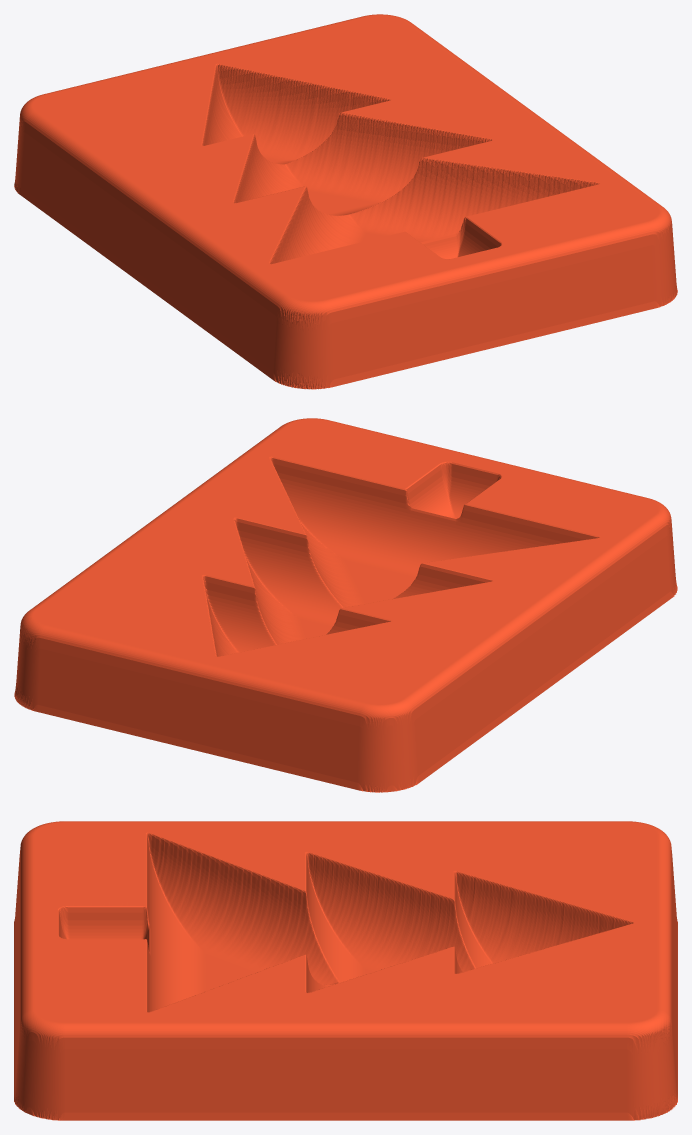
The model's file is mold.glb.
3 views of the same model, one above another, from view 1: azimuth 30°, elevation 25°; view 2: azimuth 150°, elevation 25°; view 3: azimuth 270°, elevation 25° (orthographic). The views are drawn at different scales.
Visible parts, largest first — view 1: geometry_0; view 2: geometry_0; view 3: geometry_0.
Boxes of the visible parts, x1,y1,x2,y2 form: geometry_0: [14, 14, 677, 389]; geometry_0: [14, 418, 677, 792]; geometry_0: [14, 821, 677, 1120].
Size of the model in its own units: 0.0912 by 0.0175 by 0.1178.
